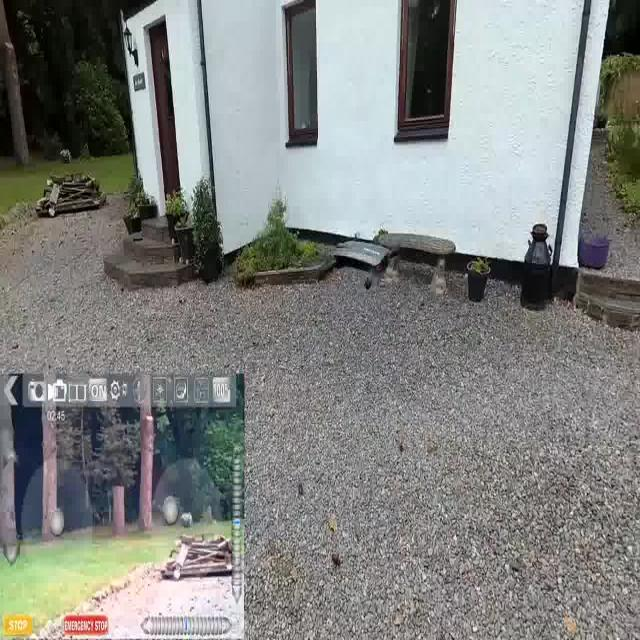drones: (304, 214, 419, 305)
